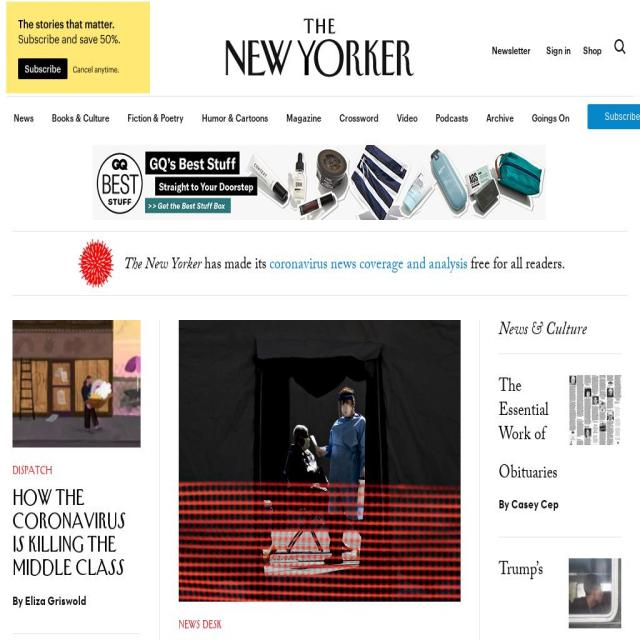button: (178, 320, 461, 602), (12, 320, 140, 448), (12, 485, 140, 594), (499, 375, 621, 486), (499, 558, 621, 640), (178, 602, 448, 632), (569, 375, 621, 445), (569, 558, 621, 628), (13, 448, 128, 478), (201, 96, 268, 136), (75, 236, 117, 293), (52, 96, 110, 136), (127, 96, 184, 136), (339, 96, 379, 136), (532, 96, 570, 136), (286, 96, 321, 136), (436, 96, 468, 136), (486, 96, 514, 136), (13, 96, 34, 136), (397, 96, 417, 136), (492, 39, 530, 59), (546, 44, 571, 60), (583, 40, 602, 60), (178, 639, 461, 640), (614, 39, 626, 60)
heading: (499, 375, 621, 486), (12, 485, 140, 579), (499, 558, 621, 640), (499, 320, 621, 341), (178, 639, 461, 640)
iframe: (92, 145, 548, 220), (6, 2, 150, 93), (6, 280, 150, 297), (587, 104, 640, 130)
image: (178, 320, 461, 602), (226, 0, 414, 96), (12, 320, 140, 448), (569, 375, 621, 445), (569, 558, 621, 628), (75, 236, 117, 293), (614, 39, 626, 54)
link: (270, 256, 468, 273), (25, 593, 86, 609), (511, 496, 559, 512)
text: (467, 256, 565, 273), (124, 256, 201, 273), (204, 256, 270, 273), (13, 593, 25, 609), (499, 496, 511, 512)
